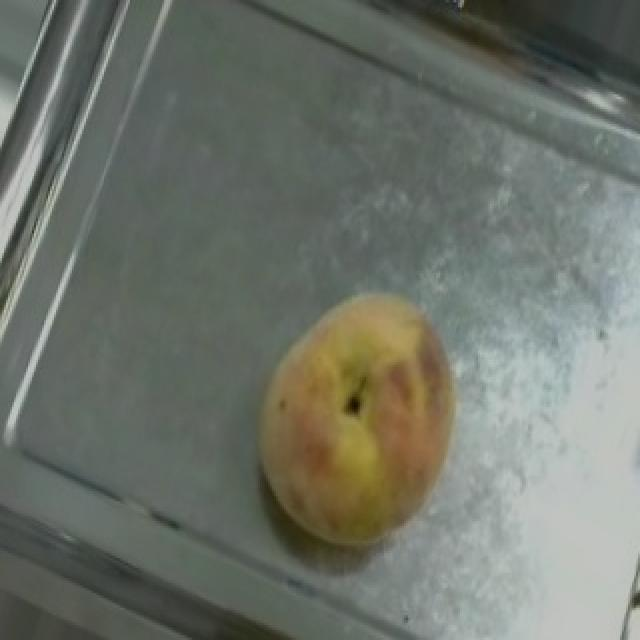Fruit: (202, 253, 504, 583)
